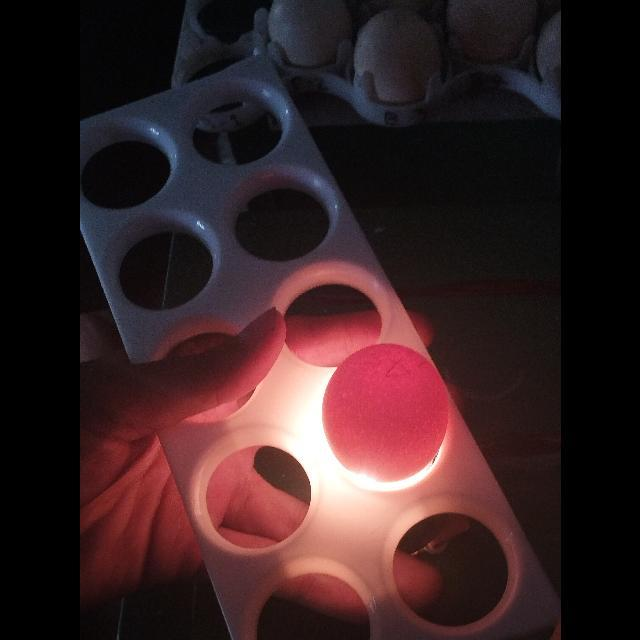Fertile: (324, 342, 444, 472)
